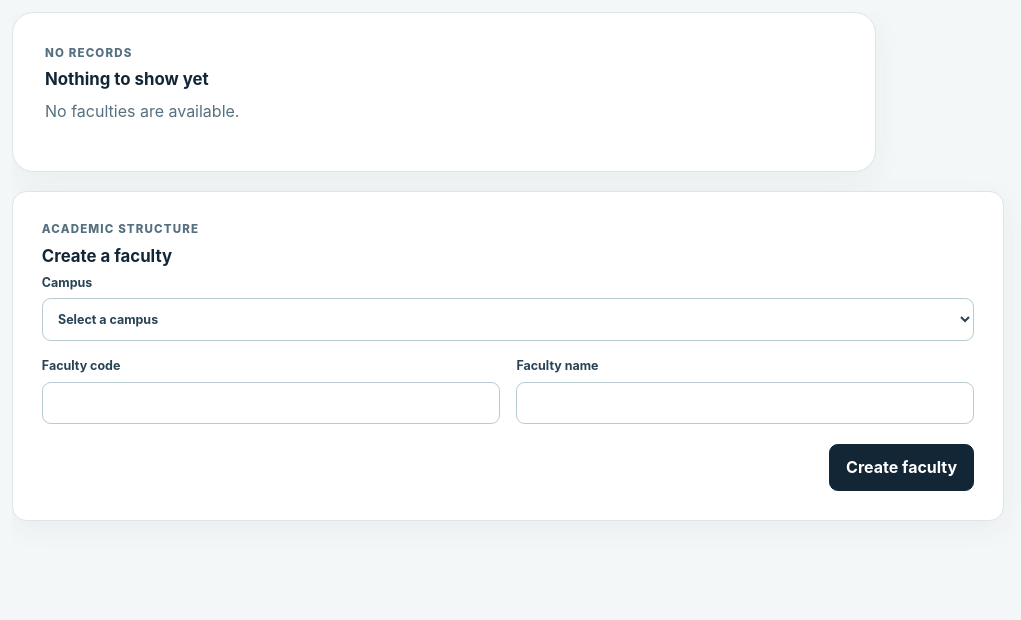
FacultyAdministration › creates a faculty under a selected campus
Select "NV · North Valley" in the dropdown labelled "Campus": (508, 319) [42,298,974,341]
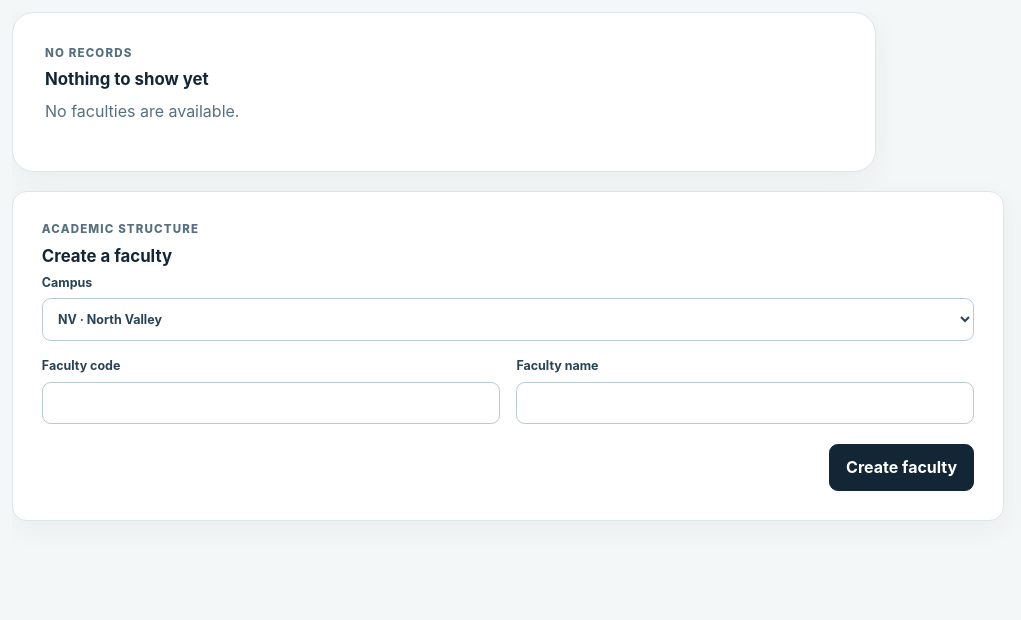
In the field labelled "Faculty code": (271, 403) [42,382,500,424], type "ENG"
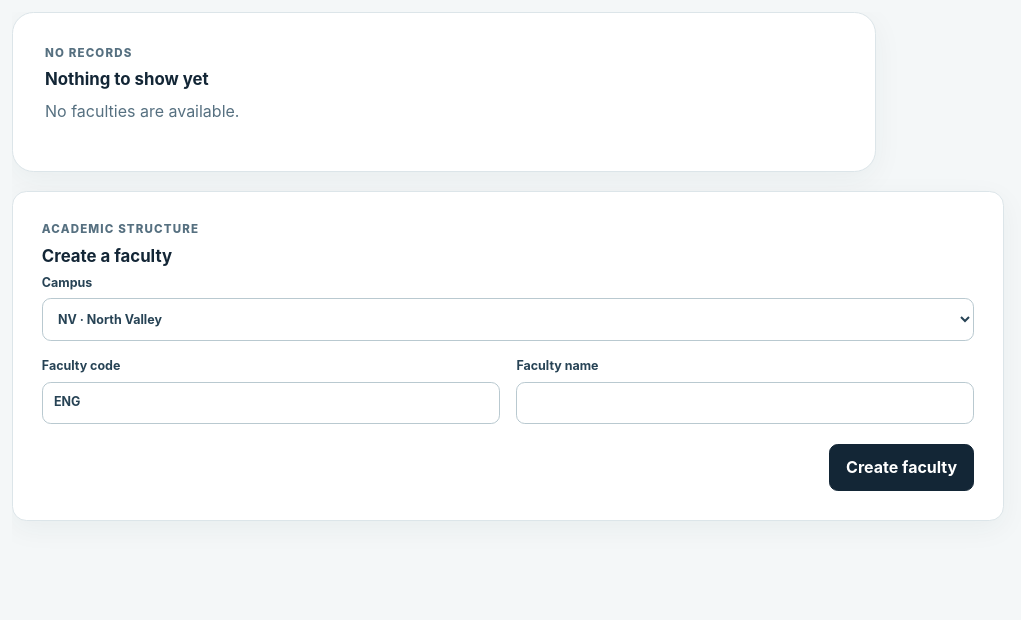
In the field labelled "Faculty name": (745, 403) [516,382,974,424], type "Engineering"
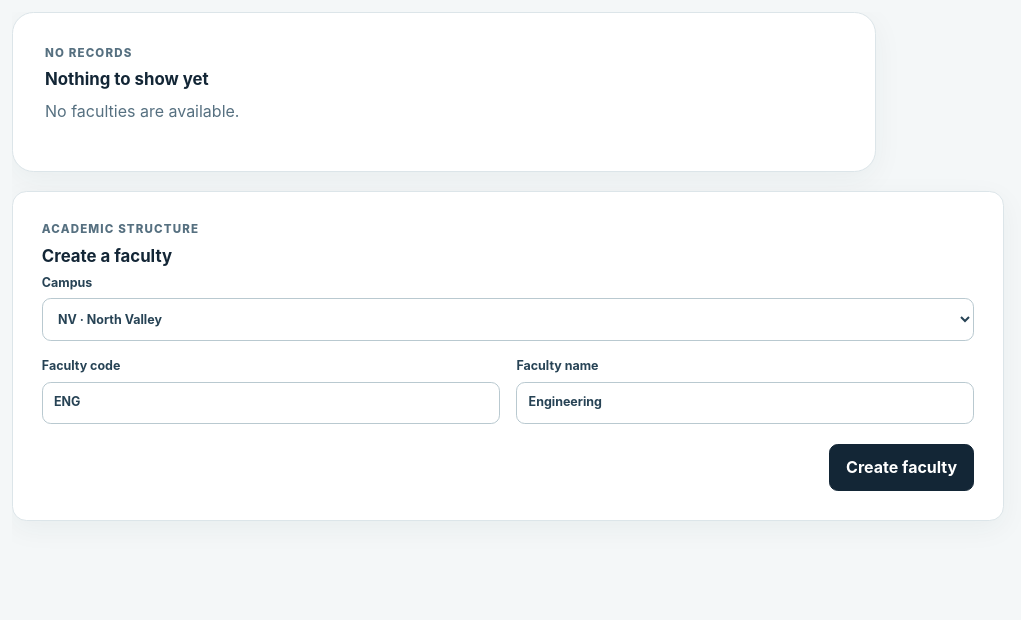
Click the button "Create faculty": (902, 467) [829,444,974,491]
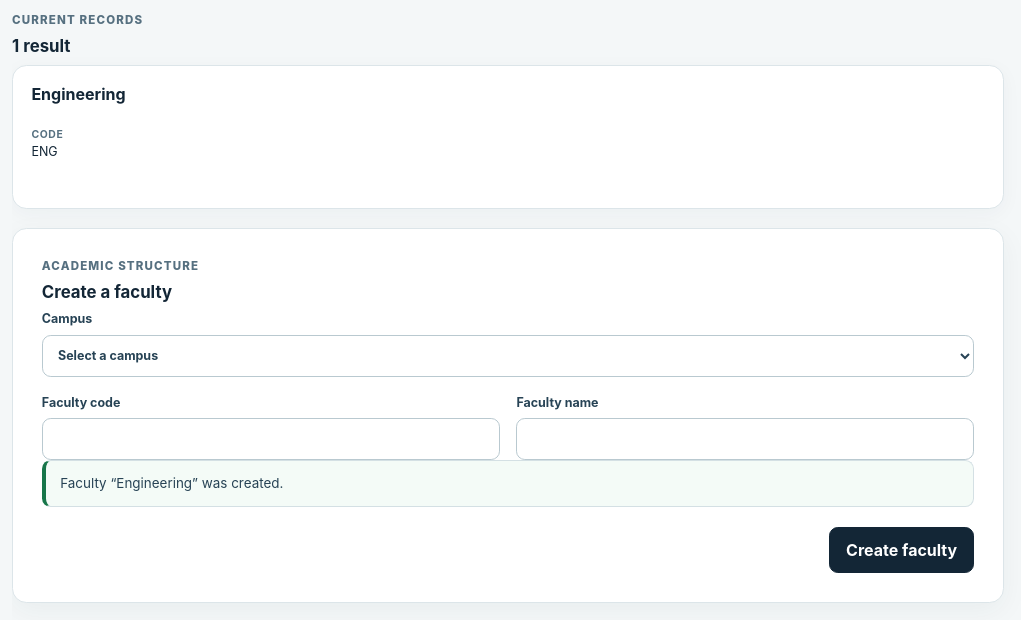
Expected: the text "Faculty “Engineering” was created." is shown, [42,460,974,507]
